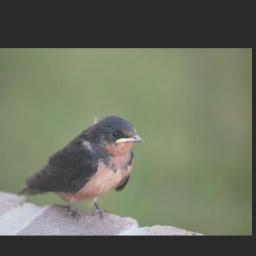Swallow: (18, 113, 145, 221)
